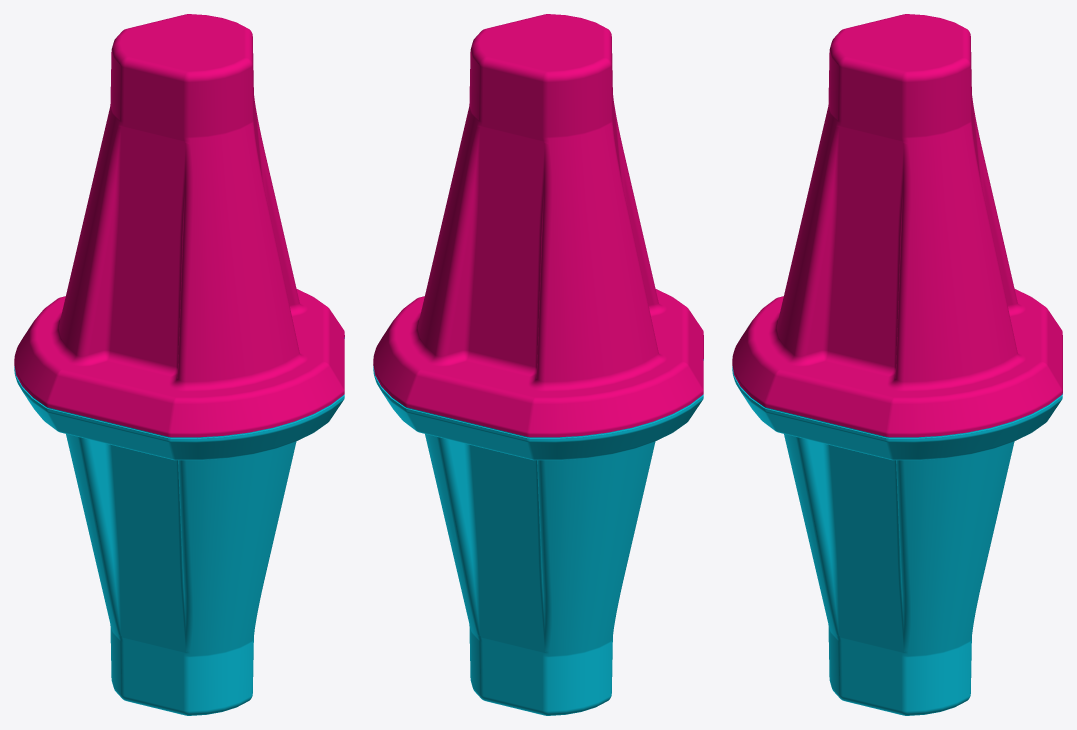
The model's file is V5RC-Override-H2H-_-RedBluePin.glb.
3 views of the same model, side by side, from view 1: azimuth 30°, elevation 25°; view 2: azimuth 150°, elevation 25°; view 3: azimuth 270°, elevation 25° (orthographic).
Parts seen in each view (by area): view 1: V5RC-Override-H2H-_-RedBluePin; view 2: V5RC-Override-H2H-_-RedBluePin; view 3: V5RC-Override-H2H-_-RedBluePin.
Boxes of the visible parts, x1,y1,x2,y2 form: V5RC-Override-H2H-_-RedBluePin: (14, 14, 344, 715); V5RC-Override-H2H-_-RedBluePin: (373, 14, 703, 715); V5RC-Override-H2H-_-RedBluePin: (732, 14, 1062, 715).
Size of the model in its own units: 0.0801 by 0.165 by 0.0768.
